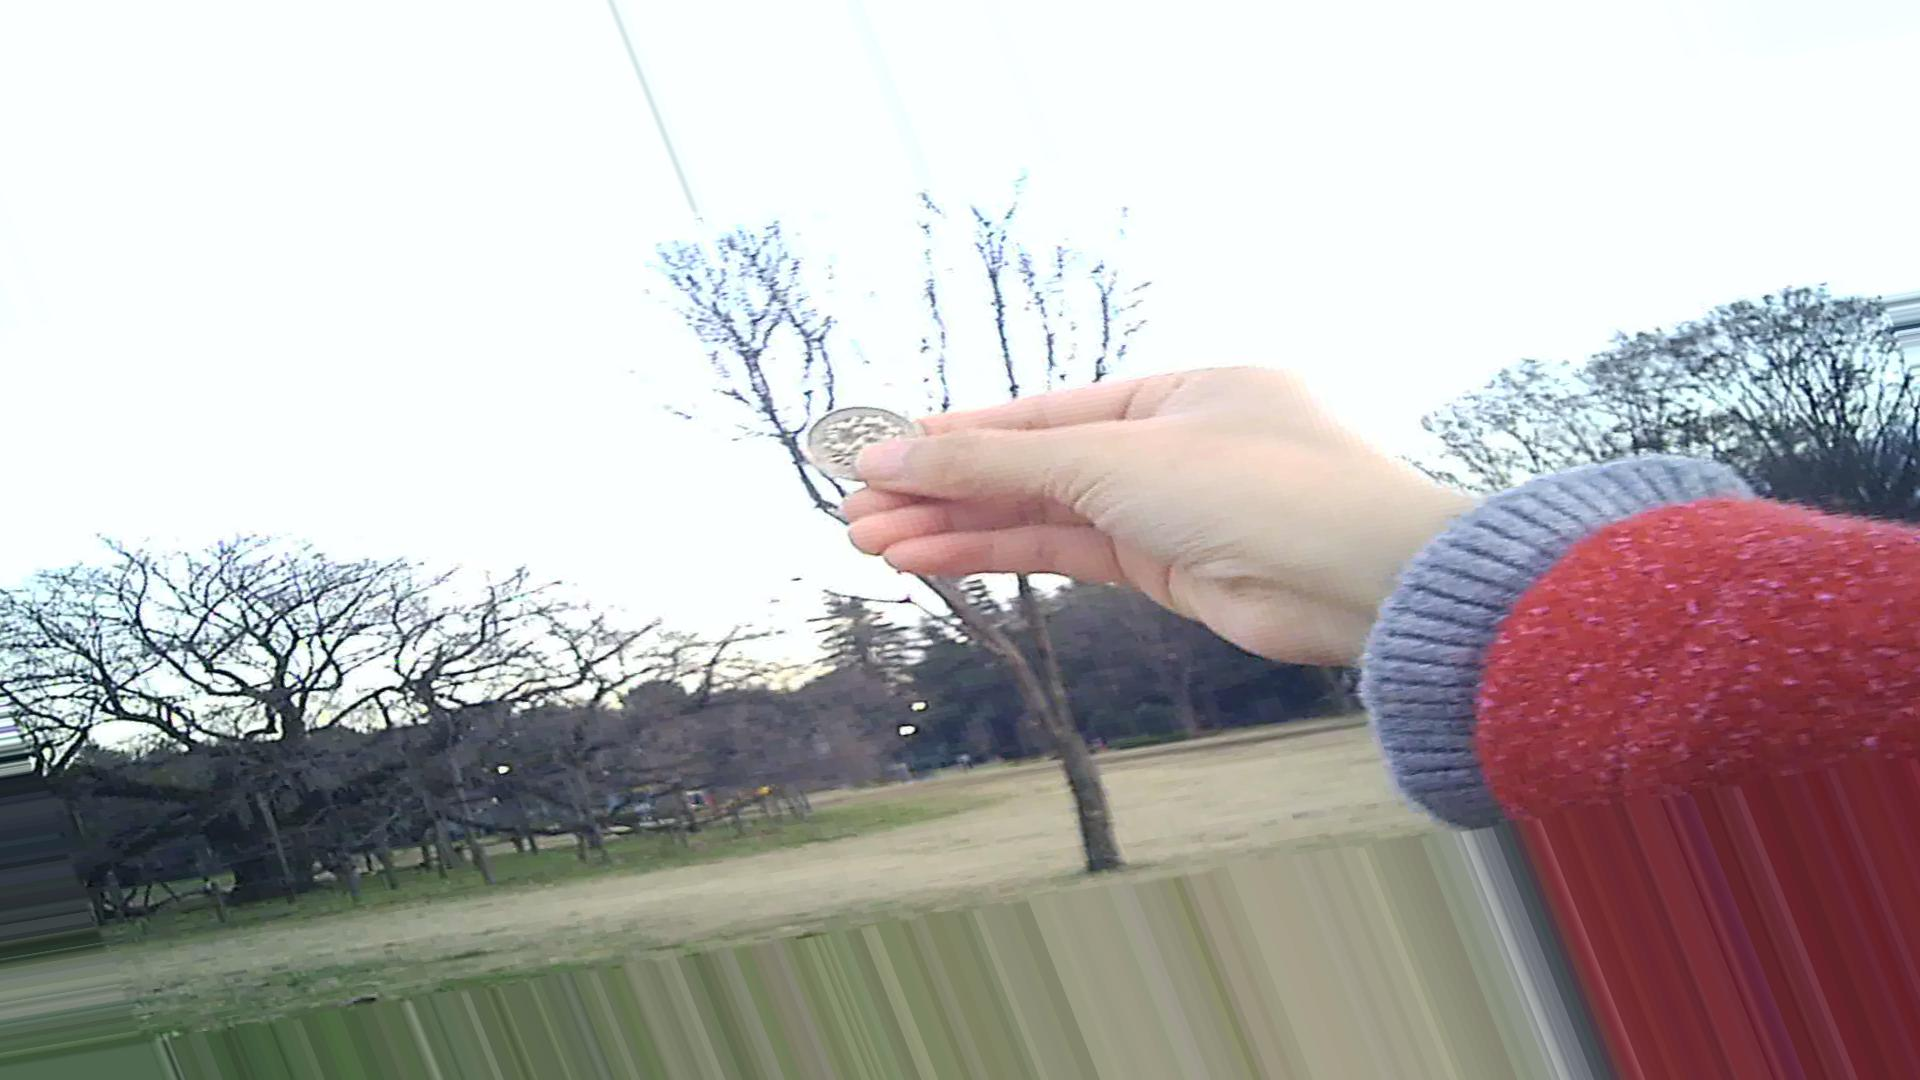100 Yen: (796, 400, 924, 487)
